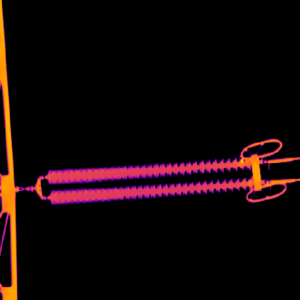insulator: (45, 155, 254, 203)
